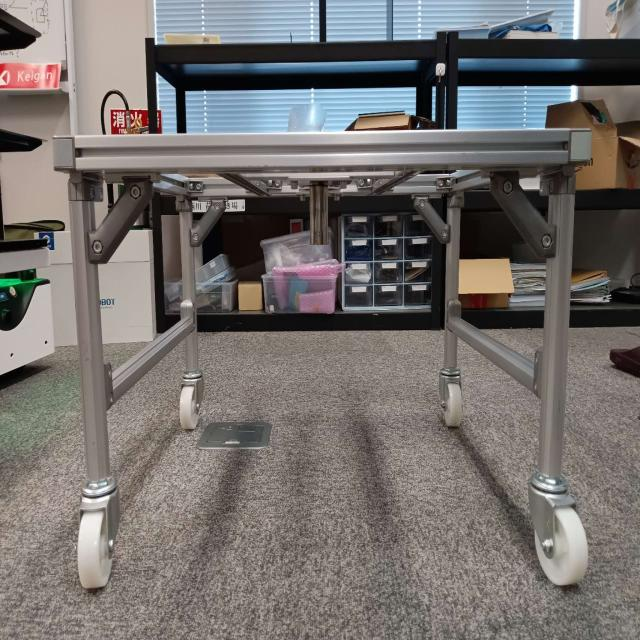door: (69, 133, 574, 269)
